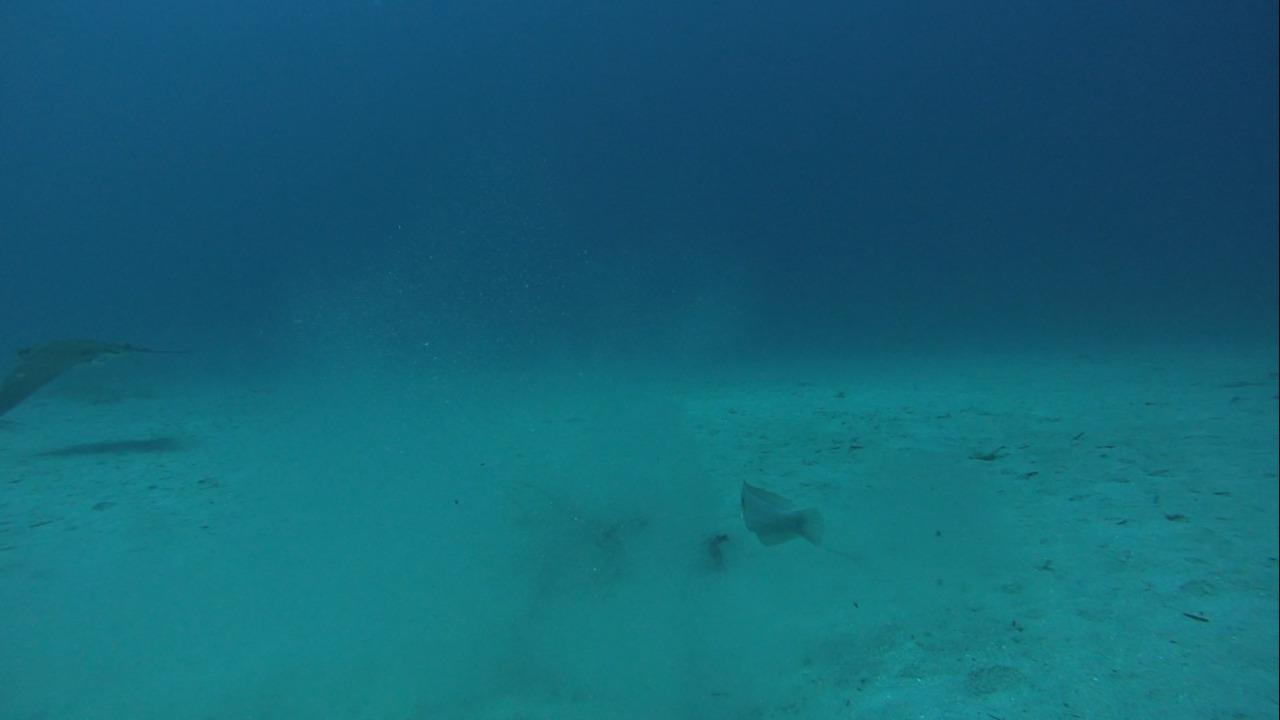myliobatis: (1, 329, 211, 421)
raor: (730, 477, 830, 551)
